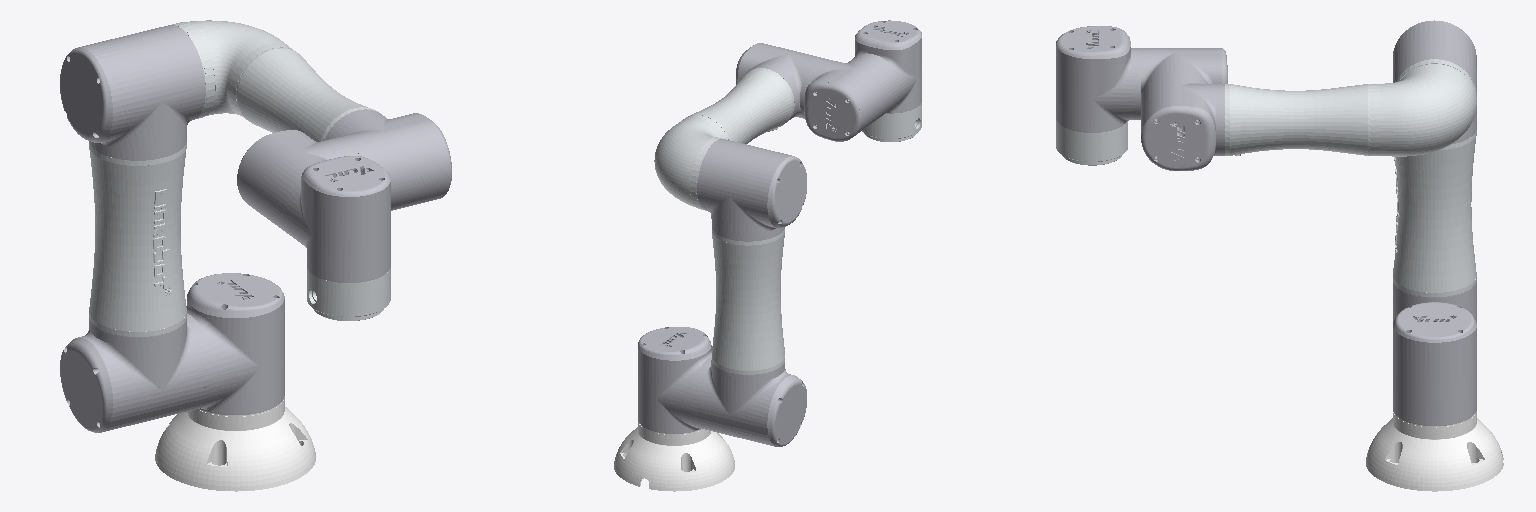
robot.urdf — YBL-A603_250924.SLDASM:
<?xml version="1.0" encoding="utf-8"?>
<!-- This URDF was automatically created by SolidWorks to URDF Exporter! Originally created by Stephen Brawner (brawner@gmail.com) 
     Commit Version: 1.6.0-4-g7f85cfe  Build Version: 1.6.7995.38578
     For more information, please see http://wiki.ros.org/sw_urdf_exporter -->
<robot
  name="YBL-A603_250924.SLDASM">
  <link
    name="base_link">
    <inertial>
      <origin
        xyz="-4.5417E-05 -0.00023447 0.026658"
        rpy="0 0 0" />
      <mass
        value="0.81396" />
      <inertia
        ixx="0.0014466"
        ixy="8.8112E-09"
        ixz="1.0293E-06"
        iyy="0.0014602"
        iyz="-4.1422E-06"
        izz="0.0023599" />
    </inertial>
    <visual>
      <origin
        xyz="0 0 0"
        rpy="0 0 0" />
      <geometry>
        <mesh
          filename="package://YBL-A603_250924.SLDASM/meshes/base_link.STL" />
      </geometry>
      <material
        name="base_steel">
        <color
          rgba="1 1 1 1" />
      </material>
    </visual>
    <collision>
      <origin
        xyz="0 0 0"
        rpy="0 0 0" />
      <geometry>
        <mesh
          filename="package://YBL-A603_250924.SLDASM/meshes/base_link.STL" />
      </geometry>
    </collision>
  </link>
  <link
    name="j1_adapter">
    <inertial>
      <origin
        xyz="-5.8563E-05 6.0342E-11 2.7508E-05"
        rpy="0 0 0" />
      <mass
        value="0.061408" />
      <inertia
        ixx="2.301E-05"
        ixy="6.2872E-14"
        ixz="2.6065E-10"
        iyy="2.307E-05"
        iyz="4.6267E-15"
        izz="4.5411E-05" />
    </inertial>
    <visual>
      <origin
        xyz="0 0 0"
        rpy="0 0 0" />
      <geometry>
        <mesh
          filename="package://YBL-A603_250924.SLDASM/meshes/j1_adapter.STL" />
      </geometry>
      <material
        name="A6061T6">
        <color
          rgba="0.89804 0.91765 0.92941 1" />
      </material>
    </visual>
    <collision>
      <origin
        xyz="0 0 0"
        rpy="0 0 0" />
      <geometry>
        <mesh
          filename="package://YBL-A603_250924.SLDASM/meshes/j1_adapter.STL" />
      </geometry>
    </collision>
  </link>
  <joint
    name="j1_adapter_fix"
    type="fixed">
    <origin
      xyz="0 0 0.0544"
      rpy="0 0 0" />
    <parent
      link="base_link" />
    <child
      link="j1_adapter" />
    <axis
      xyz="0 0 0" />
  </joint>
  <link
    name="j1_link">
    <inertial>
      <origin
        xyz="-0.0034102 -7.7028E-06 -0.0025823"
        rpy="0 0 0" />
      <mass
        value="1.9626" />
      <inertia
        ixx="0.0022781"
        ixy="-3.1194E-07"
        ixz="-1.7903E-06"
        iyy="0.0023714"
        iyz="9.2421E-08"
        izz="0.0021646" />
    </inertial>
    <visual>
      <origin
        xyz="0 0 0"
        rpy="0 0 0" />
      <geometry>
        <mesh
          filename="package://YBL-A603_250924.SLDASM/meshes/j1_link.STL" />
      </geometry>
      <material
        name="80T">
        <color
          rgba="0.77647 0.77647 0.81569 1" />
      </material>
    </visual>
    <collision>
      <origin
        xyz="0 0 0"
        rpy="0 0 0" />
      <geometry>
        <mesh
          filename="package://YBL-A603_250924.SLDASM/meshes/j1_link.STL" />
      </geometry>
    </collision>
  </link>
  <joint
    name="j1_link_rev"
    type="revolute">
    <origin
      xyz="0 0 0.0491"
      rpy="0 0 0" />
    <parent
      link="j1_adapter" />
    <child
      link="j1_link" />
    <axis
      xyz="0 0 1" />
    <limit
      lower="-6.283185307"
      upper="6.283185307"
      effort="101"
      velocity="3.141592654" />
  </joint>
  <link
    name="j2_adapter">
    <inertial>
      <origin
        xyz="-7.7508E-05 -1.2108E-07 5.8563E-05"
        rpy="0 0 0" />
      <mass
        value="0.061408" />
      <inertia
        ixx="4.5411E-05"
        ixy="3.4882E-08"
        ixz="2.6065E-10"
        iyy="2.307E-05"
        iyz="4.6975E-13"
        izz="2.301E-05" />
    </inertial>
    <visual>
      <origin
        xyz="0 0 0"
        rpy="0 0 0" />
      <geometry>
        <mesh
          filename="package://YBL-A603_250924.SLDASM/meshes/j2_adapter.STL" />
      </geometry>
      <material
        name="A6061T6">
        <color
          rgba="0.89804 0.91765 0.92941 1" />
      </material>
    </visual>
    <collision>
      <origin
        xyz="0 0 0"
        rpy="0 0 0" />
      <geometry>
        <mesh
          filename="package://YBL-A603_250924.SLDASM/meshes/j2_adapter.STL" />
      </geometry>
    </collision>
  </link>
  <joint
    name="j2_adapter_fix"
    type="fixed">
    <origin
      xyz="-0.04885 -7.6273E-05 0"
      rpy="0 0 0" />
    <parent
      link="j1_link" />
    <child
      link="j2_adapter" />
    <axis
      xyz="0 0 0" />
  </joint>
  <link
    name="j2_link">
    <inertial>
      <origin
        xyz="0.0025522 6.9884E-06 0.0034073"
        rpy="0 0 0" />
      <mass
        value="1.9637" />
      <inertia
        ixx="0.0021648"
        ixy="-1.6059E-07"
        ixz="-2.1146E-06"
        iyy="0.0023749"
        iyz="-1.6812E-07"
        izz="0.0022817" />
    </inertial>
    <visual>
      <origin
        xyz="0 0 0"
        rpy="0 0 0" />
      <geometry>
        <mesh
          filename="package://YBL-A603_250924.SLDASM/meshes/j2_link.STL" />
      </geometry>
      <material
        name="80T">
        <color
          rgba="0.77647 0.77647 0.81569 1" />
      </material>
    </visual>
    <collision>
      <origin
        xyz="0 0 0"
        rpy="0 0 0" />
      <geometry>
        <mesh
          filename="package://YBL-A603_250924.SLDASM/meshes/j2_link.STL" />
      </geometry>
    </collision>
  </link>
  <joint
    name="j2_link_rev"
    type="revolute">
    <origin
      xyz="-0.04915 -7.6741E-05 0"
      rpy="0 0 0" />
    <parent
      link="j2_adapter" />
    <child
      link="j2_link" />
    <axis
      xyz="1 0.0015614 0" />
    <limit
      lower="-6.283185307"
      upper="6.283185307"
      effort="101"
      velocity="3.141592654" />
  </joint>
  <link
    name="j2_arm">
    <inertial>
      <origin
        xyz="7.8427E-06 -0.00012639 0.090026"
        rpy="0 0 0" />
      <mass
        value="0.65847" />
      <inertia
        ixx="0.0026996"
        ixy="4.7156E-08"
        ixz="-2.9655E-07"
        iyy="0.0026965"
        iyz="1.3621E-07"
        izz="0.00085536" />
    </inertial>
    <visual>
      <origin
        xyz="0 0 0"
        rpy="0 0 0" />
      <geometry>
        <mesh
          filename="package://YBL-A603_250924.SLDASM/meshes/j2_arm.STL" />
      </geometry>
      <material
        name="A6061T6">
        <color
          rgba="0.89804 0.91765 0.92941 1" />
      </material>
    </visual>
    <collision>
      <origin
        xyz="0 0 0"
        rpy="0 0 0" />
      <geometry>
        <mesh
          filename="package://YBL-A603_250924.SLDASM/meshes/j2_arm.STL" />
      </geometry>
    </collision>
  </link>
  <joint
    name="j2_arm_fix"
    type="fixed">
    <origin
      xyz="0 0 0.04885"
      rpy="0 0 0" />
    <parent
      link="j2_link" />
    <child
      link="j2_arm" />
    <axis
      xyz="0 0 0" />
  </joint>
  <link
    name="arm_j3">
    <inertial>
      <origin
        xyz="0.0025522 9.8112E-07 0.045443"
        rpy="0 0 0" />
      <mass
        value="1.9637" />
      <inertia
        ixx="0.0021648"
        ixy="-4.9534E-07"
        ixz="2.1149E-06"
        iyy="0.0023749"
        iyz="-1.6153E-07"
        izz="0.0022817" />
    </inertial>
    <visual>
      <origin
        xyz="0 0 0"
        rpy="0 0 0" />
      <geometry>
        <mesh
          filename="package://YBL-A603_250924.SLDASM/meshes/arm_j3.STL" />
      </geometry>
      <material
        name="80T">
        <color
          rgba="0.77647 0.77647 0.81569 1" />
      </material>
    </visual>
    <collision>
      <origin
        xyz="0 0 0"
        rpy="0 0 0" />
      <geometry>
        <mesh
          filename="package://YBL-A603_250924.SLDASM/meshes/arm_j3.STL" />
      </geometry>
    </collision>
  </link>
  <joint
    name="arm_j3_fix"
    type="fixed">
    <origin
      xyz="0 0 0.1801"
      rpy="0 0 0" />
    <parent
      link="j2_arm" />
    <child
      link="arm_j3" />
    <axis
      xyz="0 0 0" />
  </joint>
  <link
    name="j3_adapter">
    <inertial>
      <origin
        xyz="0.049072 7.662E-05 -5.8563E-05"
        rpy="0 0 0" />
      <mass
        value="0.061408" />
      <inertia
        ixx="4.5411E-05"
        ixy="3.4882E-08"
        ixz="-2.6065E-10"
        iyy="2.307E-05"
        iyz="-3.4401E-13"
        izz="2.301E-05" />
    </inertial>
    <visual>
      <origin
        xyz="0 0 0"
        rpy="0 0 0" />
      <geometry>
        <mesh
          filename="package://YBL-A603_250924.SLDASM/meshes/j3_adapter.STL" />
      </geometry>
      <material
        name="A6061T6">
        <color
          rgba="0.89804 0.91765 0.92941 1" />
      </material>
    </visual>
    <collision>
      <origin
        xyz="0 0 0"
        rpy="0 0 0" />
      <geometry>
        <mesh
          filename="package://YBL-A603_250924.SLDASM/meshes/j3_adapter.STL" />
      </geometry>
    </collision>
  </link>
  <joint
    name="j3_adapter_rev"
    type="revolute">
    <origin
      xyz="0 0 0.04885"
      rpy="1.5708 0 0" />
    <parent
      link="arm_j3" />
    <child
      link="j3_adapter" />
    <axis
      xyz="1 0.0015614 0" />
    <limit
      lower="-6.283185307"
      upper="6.283185307"
      effort="101"
      velocity="3.141592654" />
  </joint>
  <link
    name="j3_elbowArm">
    <inertial>
      <origin
        xyz="0.042241 1.6346E-05 0.081578"
        rpy="0 0 0" />
      <mass
        value="0.50482" />
      <inertia
        ixx="0.0031749"
        ixy="5.4132E-08"
        ixz="-0.0002777"
        iyy="0.0032101"
        iyz="2.2489E-06"
        izz="0.00062174" />
    </inertial>
    <visual>
      <origin
        xyz="0 0 0"
        rpy="0 0 0" />
      <geometry>
        <mesh
          filename="package://YBL-A603_250924.SLDASM/meshes/j3_elbowArm.STL" />
      </geometry>
      <material
        name="A6061T6">
        <color
          rgba="0.89804 0.91765 0.92941 1" />
      </material>
    </visual>
    <collision>
      <origin
        xyz="0 0 0"
        rpy="0 0 0" />
      <geometry>
        <mesh
          filename="package://YBL-A603_250924.SLDASM/meshes/j3_elbowArm.STL" />
      </geometry>
    </collision>
  </link>
  <joint
    name="j3_elbowArm_fix"
    type="fixed">
    <origin
      xyz="0.049 8.6248E-05 0"
      rpy="0 0 0" />
    <parent
      link="j3_adapter" />
    <child
      link="j3_elbowArm" />
    <axis
      xyz="0 0 0" />
  </joint>
  <link
    name="elbowArm_j4">
    <inertial>
      <origin
        xyz="-0.0019266 -9.2702E-06 0.038908"
        rpy="0 0 0" />
      <mass
        value="1.2573" />
      <inertia
        ixx="0.0010854"
        ixy="-9.6087E-09"
        ixz="5.6744E-06"
        iyy="0.0011716"
        iyz="-9.4383E-08"
        izz="0.0011036" />
    </inertial>
    <visual>
      <origin
        xyz="0 0 0"
        rpy="0 0 0" />
      <geometry>
        <mesh
          filename="package://YBL-A603_250924.SLDASM/meshes/elbowArm_j4.STL" />
      </geometry>
      <material
        name="70T">
        <color
          rgba="0.77647 0.77647 0.81569 1" />
      </material>
    </visual>
    <collision>
      <origin
        xyz="0 0 0"
        rpy="0 0 0" />
      <geometry>
        <mesh
          filename="package://YBL-A603_250924.SLDASM/meshes/elbowArm_j4.STL" />
      </geometry>
    </collision>
  </link>
  <joint
    name="elbowArm_j4_fix"
    type="fixed">
    <origin
      xyz="0.0485 6.5985E-05 0.2172"
      rpy="0 0 0" />
    <parent
      link="j3_elbowArm" />
    <child
      link="elbowArm_j4" />
    <axis
      xyz="0 0 0" />
  </joint>
  <link
    name="j4_link">
    <inertial>
      <origin
        xyz="-0.04289 -6.6967E-05 8.7153E-05"
        rpy="0 0 0" />
      <mass
        value="0.04408" />
      <inertia
        ixx="2.1366E-05"
        ixy="1.6299E-08"
        ixz="4.2291E-10"
        iyy="1.0927E-05"
        iyz="5.97E-13"
        izz="1.0928E-05" />
    </inertial>
    <visual>
      <origin
        xyz="0 0 0"
        rpy="0 0 0" />
      <geometry>
        <mesh
          filename="package://YBL-A603_250924.SLDASM/meshes/j4_link.STL" />
      </geometry>
      <material
        name="A6061T6">
        <color
          rgba="0.89804 0.91765 0.92941 1" />
      </material>
    </visual>
    <collision>
      <origin
        xyz="0 0 0"
        rpy="0 0 0" />
      <geometry>
        <mesh
          filename="package://YBL-A603_250924.SLDASM/meshes/j4_link.STL" />
      </geometry>
    </collision>
  </link>
  <joint
    name="j4_link_rev"
    type="revolute">
    <origin
      xyz="0 0 0.043"
      rpy="0 0 0" />
    <parent
      link="elbowArm_j4" />
    <child
      link="j4_link" />
    <axis
      xyz="1 0.0015614 0" />
    <limit
      lower="-6.283185307"
      upper="6.283185307"
      effort="63"
      velocity="3.141592654" />
  </joint>
  <link
    name="j4_adapter_j5">
    <inertial>
      <origin
        xyz="-0.038908 -5.4488E-05 0.0019266"
        rpy="0 0 0" />
      <mass
        value="1.2573" />
      <inertia
        ixx="0.0011036"
        ixy="-2.0938E-07"
        ixz="5.6741E-06"
        iyy="0.0011716"
        iyz="1.338E-07"
        izz="0.0010854" />
    </inertial>
    <visual>
      <origin
        xyz="0 0 0"
        rpy="0 0 0" />
      <geometry>
        <mesh
          filename="package://YBL-A603_250924.SLDASM/meshes/j4_adapter_j5.STL" />
      </geometry>
      <material
        name="70T">
        <color
          rgba="0.77647 0.77647 0.81569 1" />
      </material>
    </visual>
    <collision>
      <origin
        xyz="0 0 0"
        rpy="0 0 0" />
      <geometry>
        <mesh
          filename="package://YBL-A603_250924.SLDASM/meshes/j4_adapter_j5.STL" />
      </geometry>
    </collision>
  </link>
  <joint
    name="j4_adapter_j5_fix"
    type="fixed">
    <origin
      xyz="-0.043 -6.7139E-05 0"
      rpy="0 0 0" />
    <parent
      link="j4_link" />
    <child
      link="j4_adapter_j5" />
    <axis
      xyz="0 0 0" />
  </joint>
  <link
    name="j5_link">
    <inertial>
      <origin
        xyz="-8.7153E-05 1.9969E-07 0.04289"
        rpy="0 0 0" />
      <mass
        value="0.04408" />
      <inertia
        ixx="1.0928E-05"
        ixy="-8.3426E-13"
        ixz="4.2291E-10"
        iyy="1.0927E-05"
        iyz="-9.6384E-13"
        izz="2.1366E-05" />
    </inertial>
    <visual>
      <origin
        xyz="0 0 0"
        rpy="0 0 0" />
      <geometry>
        <mesh
          filename="package://YBL-A603_250924.SLDASM/meshes/j5_link.STL" />
      </geometry>
      <material
        name="A6061T6">
        <color
          rgba="0.89804 0.91765 0.92941 1" />
      </material>
    </visual>
    <collision>
      <origin
        xyz="0 0 0"
        rpy="0 0 0" />
      <geometry>
        <mesh
          filename="package://YBL-A603_250924.SLDASM/meshes/j5_link.STL" />
      </geometry>
    </collision>
  </link>
  <joint
    name="j5_link_rev"
    type="revolute">
    <origin
      xyz="-0.043 -6.7139E-05 0"
      rpy="0 0 0" />
    <parent
      link="j4_adapter_j5" />
    <child
      link="j5_link" />
    <axis
      xyz="0 0 1" />
    <limit
      lower="-6.283185307"
      upper="6.283185307"
      effort="63"
      velocity="3.141592654" />
  </joint>
  <link
    name="j5_adapter_j6">
    <inertial>
      <origin
        xyz="-0.0019266 -1.8468E-06 0.038908"
        rpy="0 0 0" />
      <mass
        value="1.2573" />
      <inertia
        ixx="0.0010854"
        ixy="3.2247E-07"
        ixz="5.674E-06"
        iyy="0.0011716"
        iyz="-1.1626E-07"
        izz="0.0011036" />
    </inertial>
    <visual>
      <origin
        xyz="0 0 0"
        rpy="0 0 0" />
      <geometry>
        <mesh
          filename="package://YBL-A603_250924.SLDASM/meshes/j5_adapter_j6.STL" />
      </geometry>
      <material
        name="70T">
        <color
          rgba="0.77647 0.77647 0.81569 1" />
      </material>
    </visual>
    <collision>
      <origin
        xyz="0 0 0"
        rpy="0 0 0" />
      <geometry>
        <mesh
          filename="package://YBL-A603_250924.SLDASM/meshes/j5_adapter_j6.STL" />
      </geometry>
    </collision>
  </link>
  <joint
    name="j5_adapter_j6_fix"
    type="fixed">
    <origin
      xyz="0 0 0.043"
      rpy="0 0 1.5708" />
    <parent
      link="j5_link" />
    <child
      link="j5_adapter_j6" />
    <axis
      xyz="0 0 0" />
  </joint>
  <link
    name="j6_link">
    <inertial>
      <origin
        xyz="-0.04289 9.8304E-05 8.7153E-05"
        rpy="0 0 0" />
      <mass
        value="0.04408" />
      <inertia
        ixx="2.1366E-05"
        ixy="-2.3926E-08"
        ixz="4.2291E-10"
        iyy="1.0927E-05"
        iyz="-1.0327E-12"
        izz="1.0928E-05" />
    </inertial>
    <visual>
      <origin
        xyz="0 0 0"
        rpy="0 0 0" />
      <geometry>
        <mesh
          filename="package://YBL-A603_250924.SLDASM/meshes/j6_link.STL" />
      </geometry>
      <material
        name="A6061T6">
        <color
          rgba="0.89804 0.91765 0.92941 1" />
      </material>
    </visual>
    <collision>
      <origin
        xyz="0 0 0"
        rpy="0 0 0" />
      <geometry>
        <mesh
          filename="package://YBL-A603_250924.SLDASM/meshes/j6_link.STL" />
      </geometry>
    </collision>
  </link>
  <joint
    name="j6_link_rev"
    type="revolute">
    <origin
      xyz="0 0 0.043"
      rpy="0 0 0" />
    <parent
      link="j5_adapter_j6" />
    <child
      link="j6_link" />
    <axis
      xyz="1 -0.002292 0" />
    <limit
      lower="-6.283185307"
      upper="6.283185307"
      effort="63"
      velocity="3.141592654" />
  </joint>
  <link
    name="j6_adapter_endplate">
    <inertial>
      <origin
        xyz="-0.016155 -0.0005074 -0.00038594"
        rpy="0 0 0" />
      <mass
        value="0.23211" />
      <inertia
        ixx="0.00019813"
        ixy="-8.3549E-08"
        ixz="-1.0053E-06"
        iyy="0.00012383"
        iyz="5.1041E-08"
        izz="0.00012198" />
    </inertial>
    <visual>
      <origin
        xyz="0 0 0"
        rpy="0 0 0" />
      <geometry>
        <mesh
          filename="package://YBL-A603_250924.SLDASM/meshes/j6_adapter_endplate.STL" />
      </geometry>
      <material
        name="A6061T6">
        <color
          rgba="0.89804 0.91765 0.92941 1" />
      </material>
    </visual>
    <collision>
      <origin
        xyz="0 0 0"
        rpy="0 0 0" />
      <geometry>
        <mesh
          filename="package://YBL-A603_250924.SLDASM/meshes/j6_adapter_endplate.STL" />
      </geometry>
    </collision>
  </link>
  <joint
    name="j6_adapter_endplate_fix"
    type="fixed">
    <origin
      xyz="-0.04275 9.7984E-05 0"
      rpy="0 0 0" />
    <parent
      link="j6_link" />
    <child
      link="j6_adapter_endplate" />
    <axis
      xyz="0 0 0" />
  </joint>
</robot>

--- Render facts (derived) ---
3 views of the same robot in one strip: view 1: azimuth 30°, elevation 25°; view 2: azimuth 150°, elevation 25°; view 3: azimuth 270°, elevation 25° (orthographic).
Robot: YBL-A603_250924.SLDASM — 16 links, 15 joints (6 revolute, 9 fixed); root link base_link; default pose: every joint at zero.
Links seen in each view (by area): view 1: j2_arm, arm_j3, j2_link, j3_elbowArm, j1_link, j5_adapter_j6, base_link, elbowArm_j4, j4_adapter_j5, j6_adapter_endplate; view 2: j2_arm, arm_j3, j3_elbowArm, j2_link, j1_link, j4_adapter_j5, base_link, j5_adapter_j6, elbowArm_j4, j6_adapter_endplate; view 3: j3_elbowArm, j2_arm, j1_link, j5_adapter_j6, base_link, elbowArm_j4, arm_j3, j4_adapter_j5, j6_adapter_endplate, j2_link.
Link boxes in pixels (x1,y1,x2,y2): j2_arm: (89,143,186,336); arm_j3: (60,25,205,160); j2_link: (60,319,205,432); j3_elbowArm: (172,20,380,141); j1_link: (186,273,284,414); j5_adapter_j6: (285,156,390,282); base_link: (155,396,315,491); elbowArm_j4: (324,109,451,210); j4_adapter_j5: (237,130,359,235); j6_adapter_endplate: (307,268,390,320); j2_arm: (712,229,784,374); arm_j3: (697,139,806,241); j3_elbowArm: (654,68,794,210); j2_link: (697,360,806,446); j1_link: (638,327,711,433); j4_adapter_j5: (801,57,896,141); base_link: (614,422,734,491); j5_adapter_j6: (853,20,921,113); elbowArm_j4: (736,43,820,119); j6_adapter_endplate: (862,103,921,141); j3_elbowArm: (1225,59,1476,156); j2_arm: (1393,130,1476,296); j1_link: (1393,302,1476,425); j5_adapter_j6: (1056,26,1139,132); base_link: (1366,411,1503,491); elbowArm_j4: (1141,72,1224,170); arm_j3: (1393,20,1476,143); j4_adapter_j5: (1140,48,1227,119); j6_adapter_endplate: (1056,120,1127,165); j2_link: (1393,282,1476,322).
Bounding box of the posed robot: 0.2267 × 0.4526 × 0.4328 m (x, y, z).
Meshes: 16 distinct files referenced, 16 mesh visuals loaded (16 binary STL).
